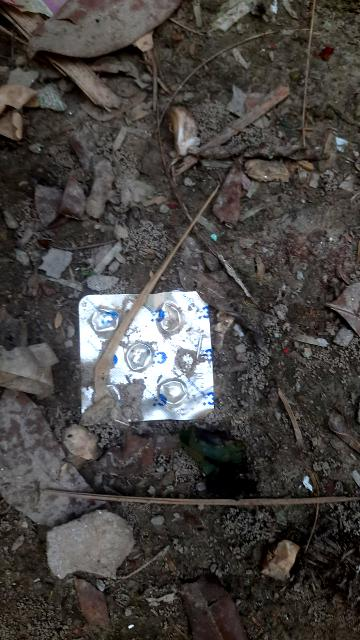medicine: (74, 285, 218, 432)
